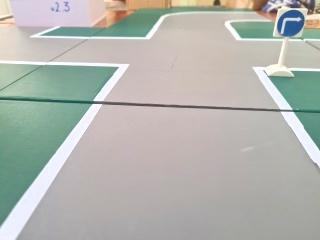right: (272, 3, 312, 43)
